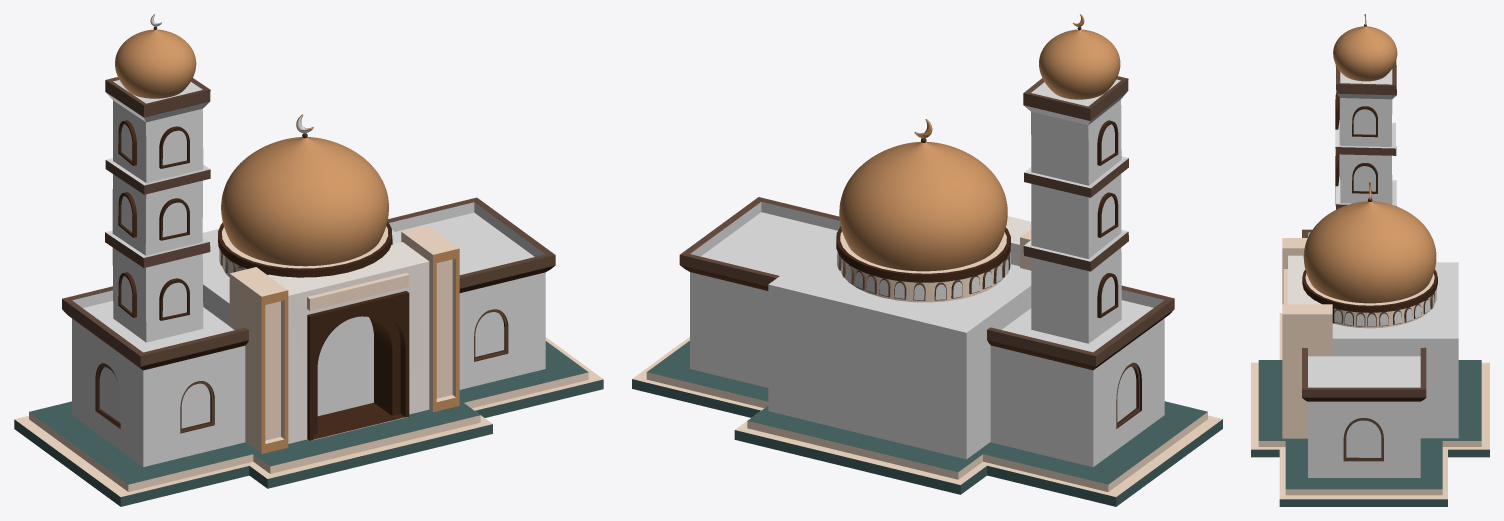
File: 3d_masjed_modeling.glb
3 renders of one model, left to right at view 1: azimuth 30°, elevation 25°; view 2: azimuth 150°, elevation 25°; view 3: azimuth 270°, elevation 25°, orthographic. The views are drawn at different scales.
Visible parts, largest first — view 1: Plane.002, Plane.004, Plane, NurbsPath, Plane.001, Plane.005, NurbsPath.001, Cylinder, Cube; view 2: Plane.002, Cube, Plane.004, NurbsPath, NurbsPath.001, Cylinder, Plane.005, Plane.007, Plane; view 3: Plane.002, Plane.004, NurbsPath, Cube, Plane.001, NurbsPath.001, Cylinder, Plane.005, Plane.007, Plane.
Part boxes in pixels (bbox=[...]): Plane.002: bbox=[62, 77, 555, 466]; Plane.004: bbox=[14, 337, 603, 506]; Plane: bbox=[268, 242, 429, 443]; NurbsPath: bbox=[221, 137, 388, 266]; Plane.001: bbox=[229, 225, 459, 453]; Plane.005: bbox=[118, 120, 189, 320]; NurbsPath.001: bbox=[115, 29, 196, 98]; Cylinder: bbox=[218, 221, 392, 277]; Cube: bbox=[202, 229, 401, 325]; Plane.002: bbox=[679, 76, 1174, 467]; Cube: bbox=[768, 235, 1031, 459]; Plane.004: bbox=[632, 337, 1222, 506]; NurbsPath: bbox=[839, 141, 1007, 271]; NurbsPath.001: bbox=[1039, 29, 1120, 99]; Cylinder: bbox=[836, 226, 1010, 302]; Plane.005: bbox=[1097, 120, 1118, 318]; Plane.007: bbox=[837, 252, 1010, 300]; Plane: bbox=[1006, 216, 1031, 266]; Plane.002: bbox=[1302, 61, 1426, 477]; Plane.004: bbox=[1251, 313, 1489, 506]; NurbsPath: bbox=[1303, 201, 1436, 303]; Cube: bbox=[1332, 262, 1458, 438]; Plane.001: bbox=[1282, 238, 1332, 438]; NurbsPath.001: bbox=[1333, 26, 1397, 81]; Cylinder: bbox=[1302, 269, 1437, 328]; Plane.005: bbox=[1335, 93, 1377, 193]; Plane.007: bbox=[1334, 289, 1436, 326]; Plane: bbox=[1283, 255, 1321, 304].
Bounding box in the file's own units: 21.05 × 17.98 × 11.41.
